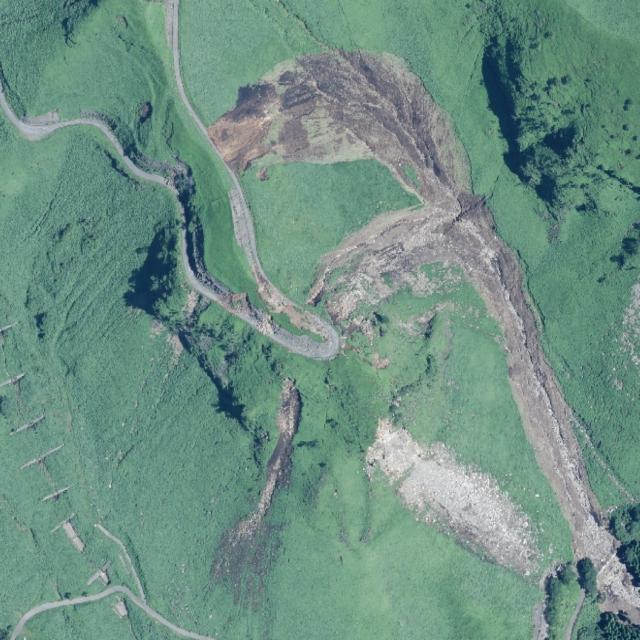landslide: (209, 50, 640, 616), (367, 421, 539, 575)
